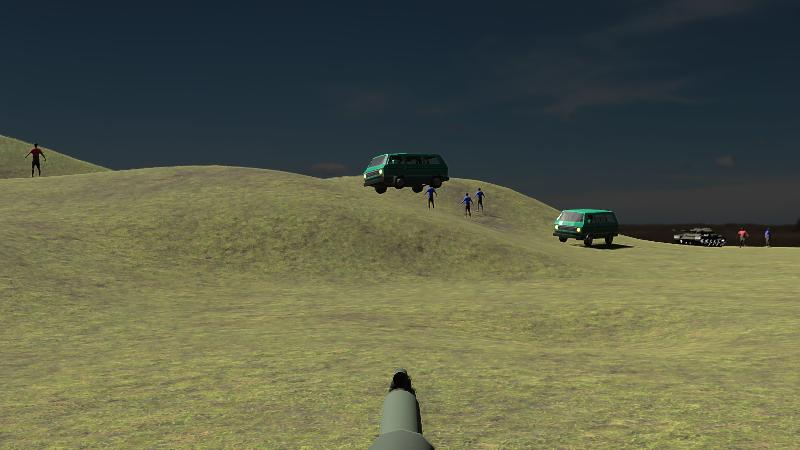car: (363, 152, 449, 194), (553, 209, 619, 247)
